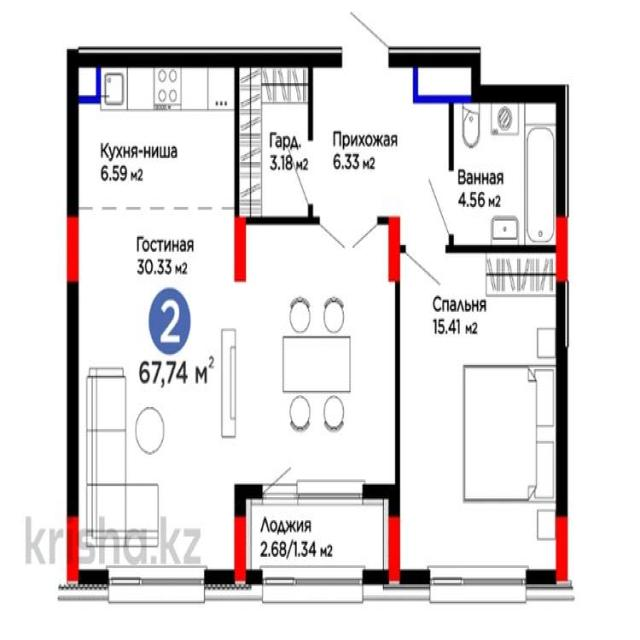balcony: (241, 488, 395, 589)
bathroom: (455, 94, 566, 244)
hallway: (312, 54, 454, 222)
living_room: (396, 247, 564, 583)
other: (239, 56, 312, 220)
studio: (70, 57, 396, 581)
